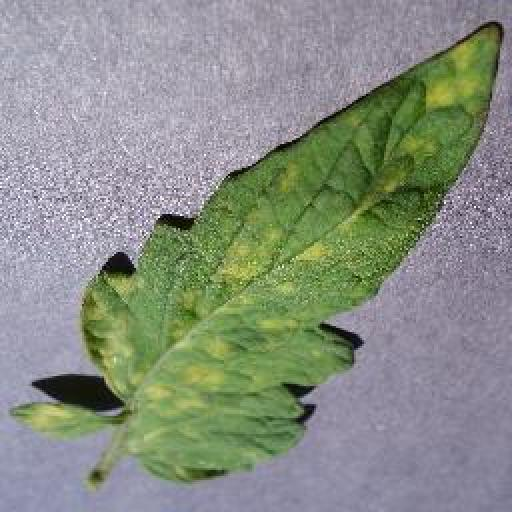disease_tomato: (83, 23, 503, 485)
